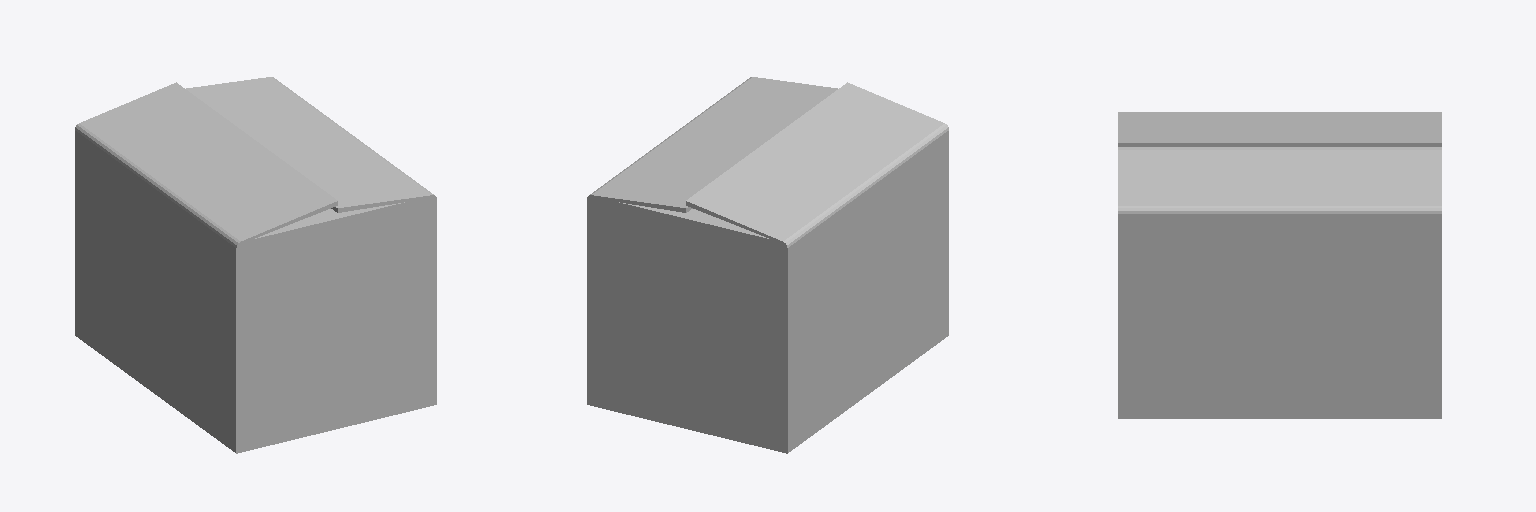
File: CardboardBox1.obj
3 renders of one model, left to right at view 1: azimuth 30°, elevation 25°; view 2: azimuth 150°, elevation 25°; view 3: azimuth 270°, elevation 25°, orthographic.
Parts seen in each view (by area): view 1: Cube; view 2: Cube; view 3: Cube.
Boxes of the visible parts, x1=… form: Cube: x1=75, y1=77, x2=436, y2=453; Cube: x1=587, y1=77, x2=948, y2=453; Cube: x1=1118, y1=112, x2=1441, y2=418.
Size of the model in its own units: 0.6947 by 0.7539 by 0.9689.